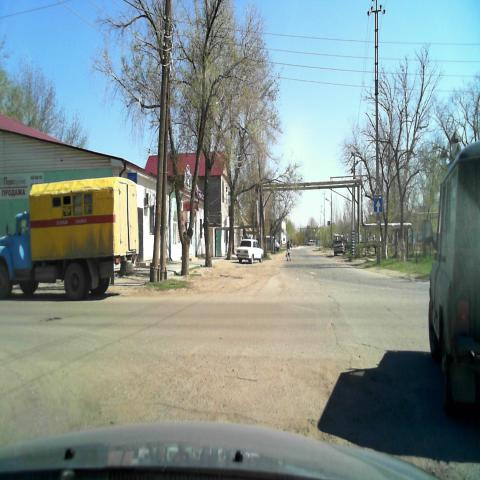1_21: (374, 184, 382, 198)
